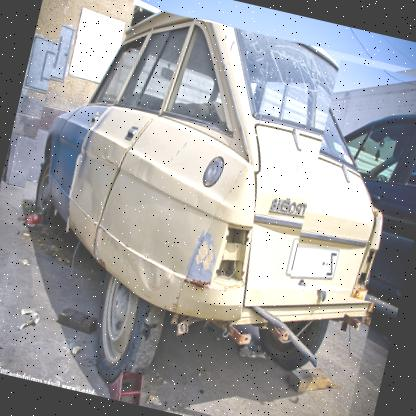Car: (0, 0, 415, 415), (288, 59, 415, 311), (0, 143, 15, 276)
